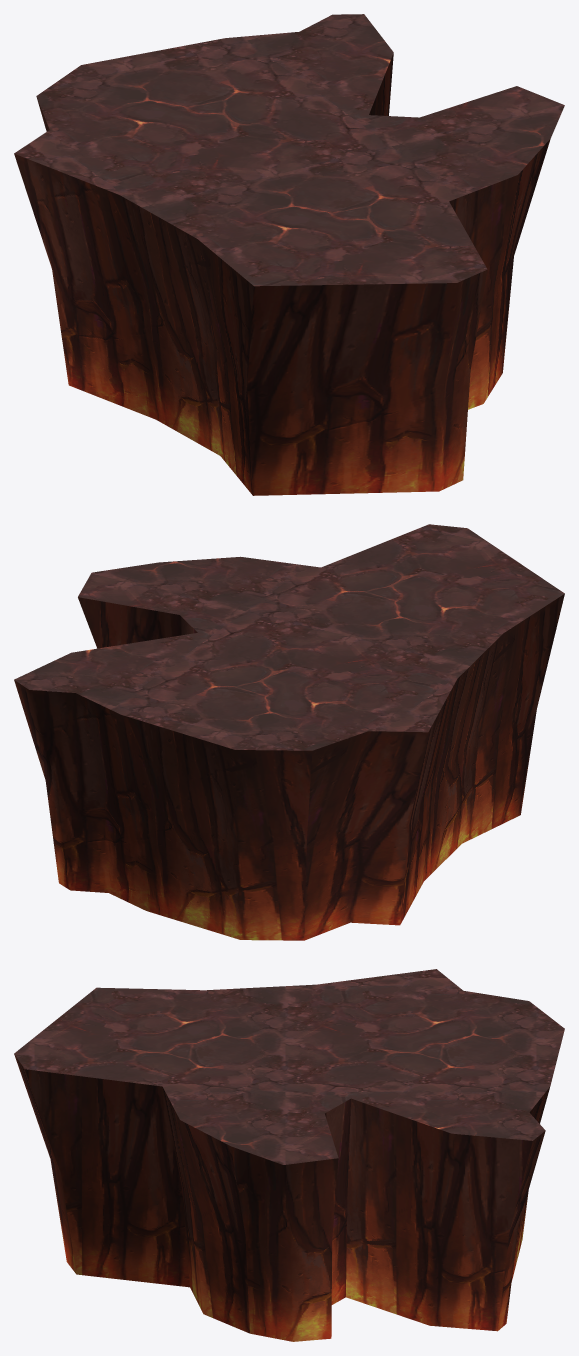
Rendered from terrain03.FBX.
3 renders of one model, top to bottom at view 1: azimuth 30°, elevation 25°; view 2: azimuth 150°, elevation 25°; view 3: azimuth 270°, elevation 25°, orthographic. The views are drawn at different scales.
Parts seen in each view (by area): view 1: terrain03; view 2: terrain03; view 3: terrain03.
Boxes of the visible parts, bbox=[...] form: terrain03: bbox=[14, 14, 564, 495]; terrain03: bbox=[14, 524, 564, 940]; terrain03: bbox=[14, 969, 564, 1341].
Bounding box in the file's own units: 1297 × 1540 × 626.
